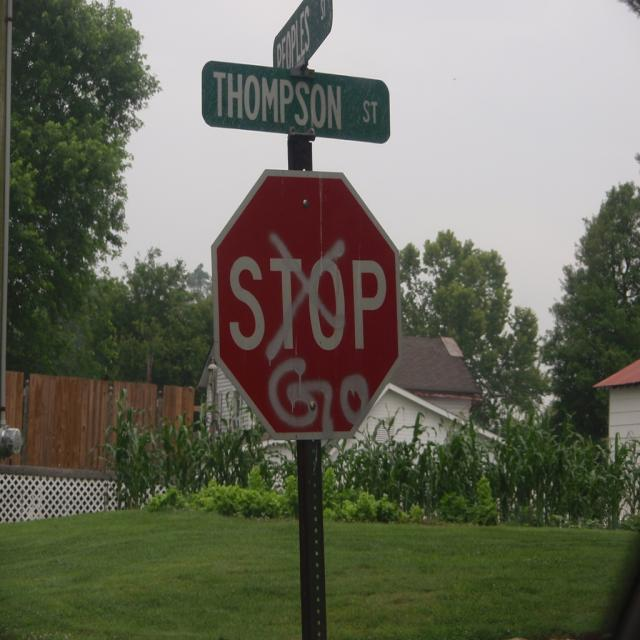Stop-sign: (209, 165, 405, 441)
